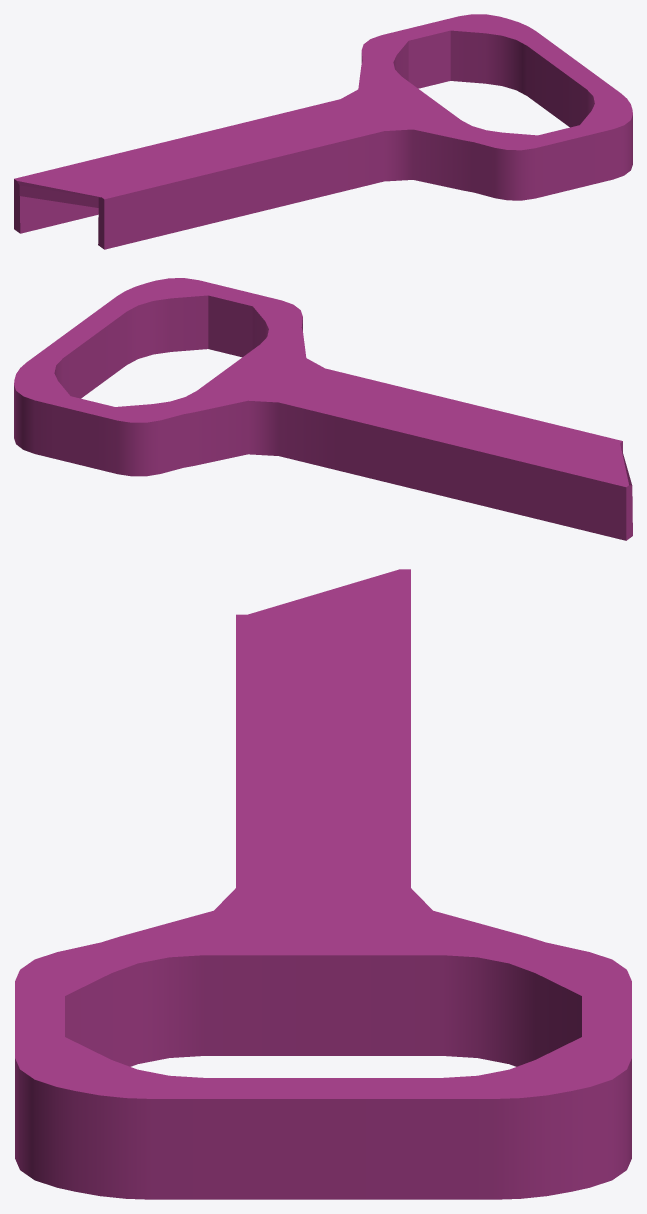
The model's file is Spade Boken Handle.fbx.
3 views of the same model, one above another, from view 1: azimuth 30°, elevation 25°; view 2: azimuth 150°, elevation 25°; view 3: azimuth 270°, elevation 25° (orthographic). The views are drawn at different scales.
Parts seen in each view (by area): view 1: pCube1; view 2: pCube1; view 3: pCube1.
Part boxes in pixels (x1,y1,x2,y2): pCube1: (14, 14, 632, 249); pCube1: (14, 278, 632, 540); pCube1: (15, 569, 631, 1199).
Size of the model in its own units: 4 by 0.3546 by 1.97.
